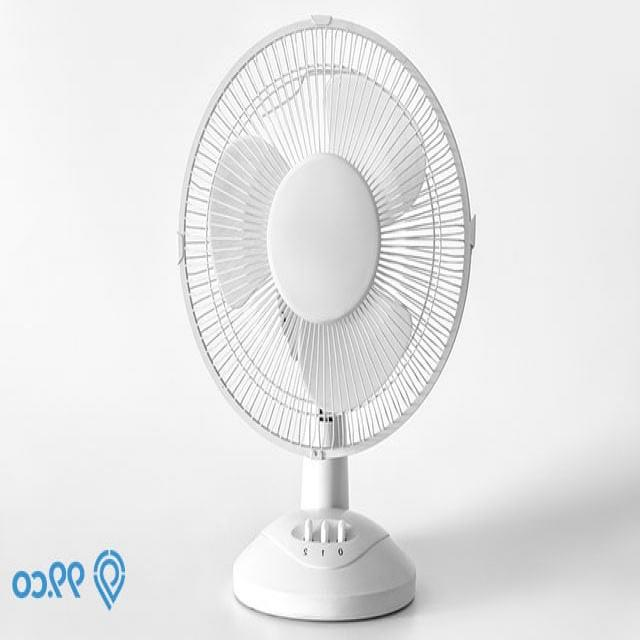fan: (172, 16, 480, 628)
